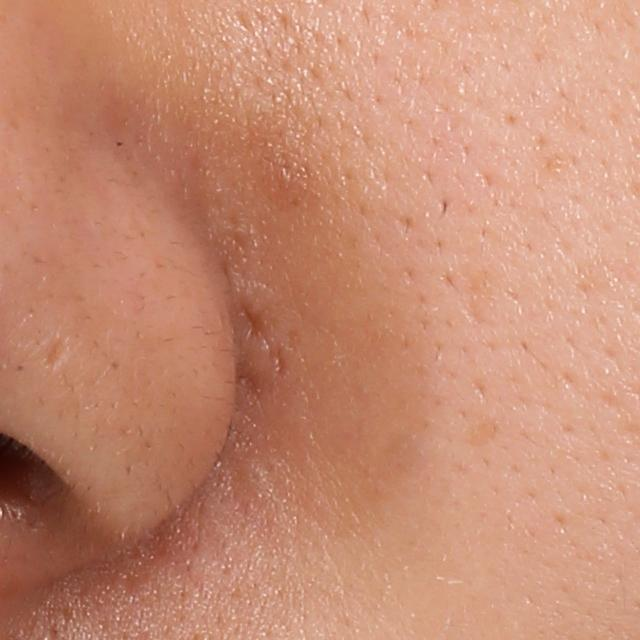atrophic_scar: (264, 340, 289, 384), (44, 336, 72, 373)
